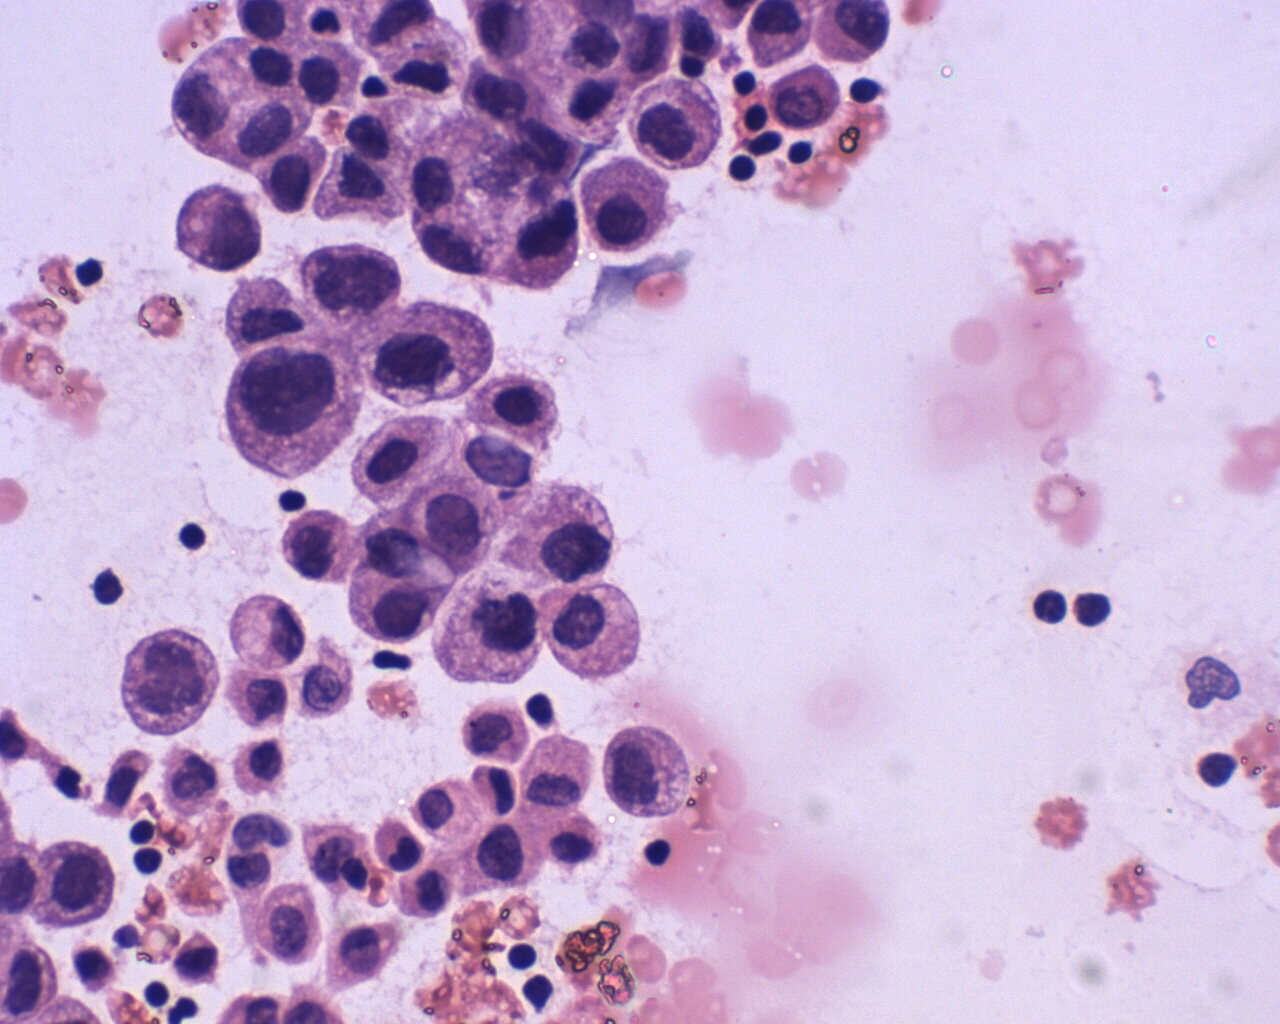ab: (217, 340, 362, 482), (366, 300, 498, 408), (432, 566, 534, 689), (113, 630, 223, 741), (505, 484, 615, 583), (400, 472, 510, 567), (160, 177, 267, 270), (629, 75, 724, 172), (300, 234, 402, 315), (29, 838, 114, 931), (277, 507, 357, 587), (768, 56, 851, 130)
lymph: (172, 517, 212, 558)
meso: (411, 775, 483, 843), (538, 816, 601, 869)
